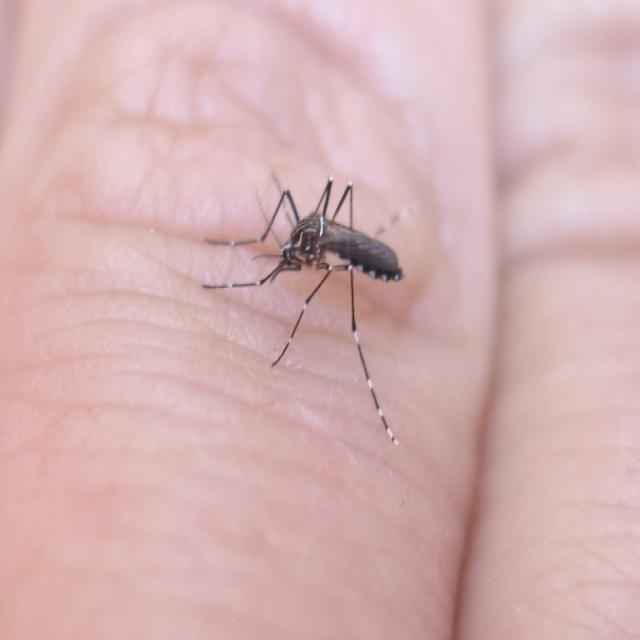Mosquito: (210, 105, 443, 428)
